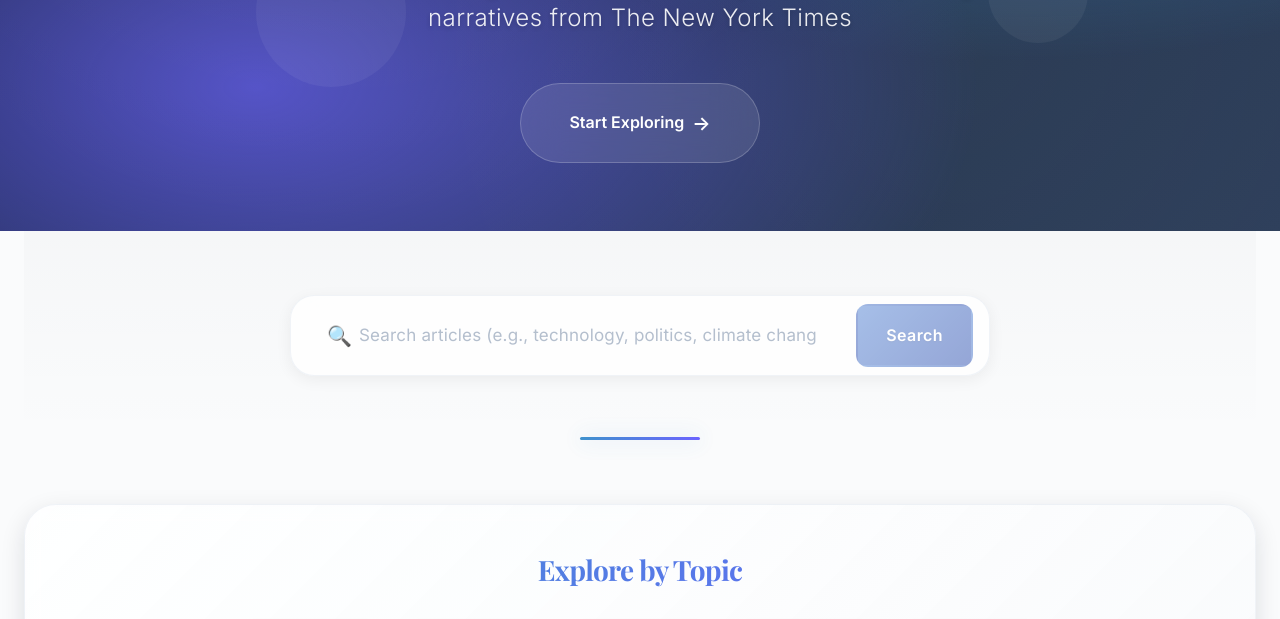
App › performs search and displays results
(page scrolled)
Type "test query" into the field with placeholder "Search articles" at (574, 336), box [307, 304, 840, 367]
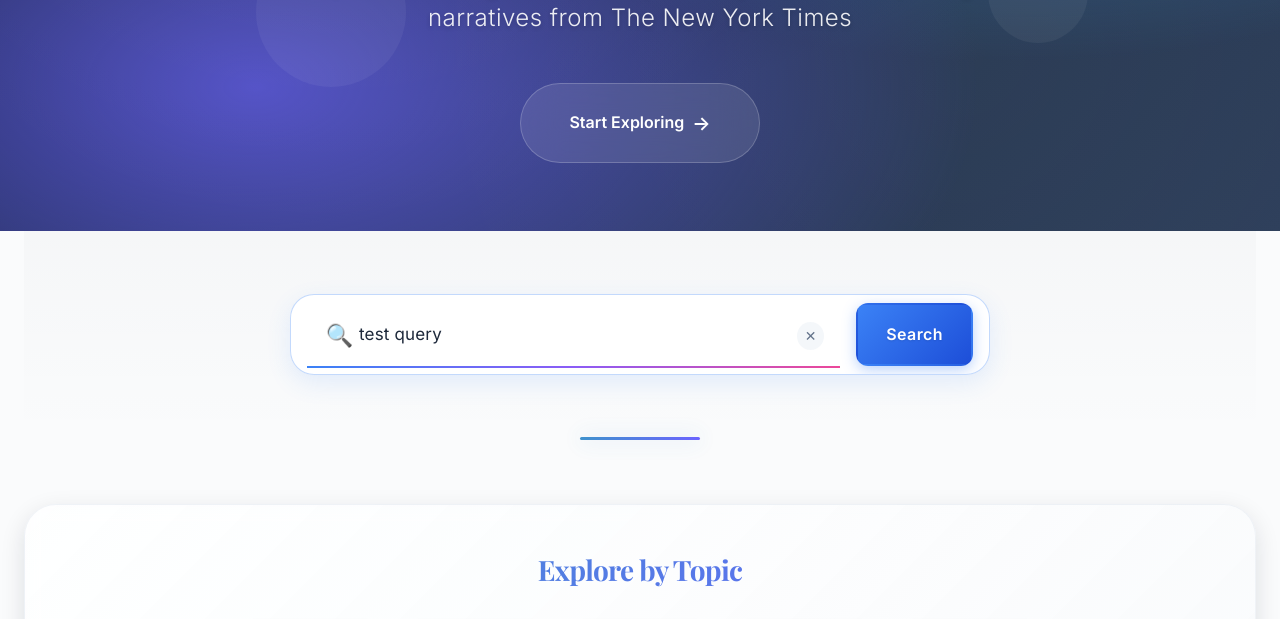
Click the button "Search" at (915, 335), box [856, 303, 973, 366]
(page scrolled)
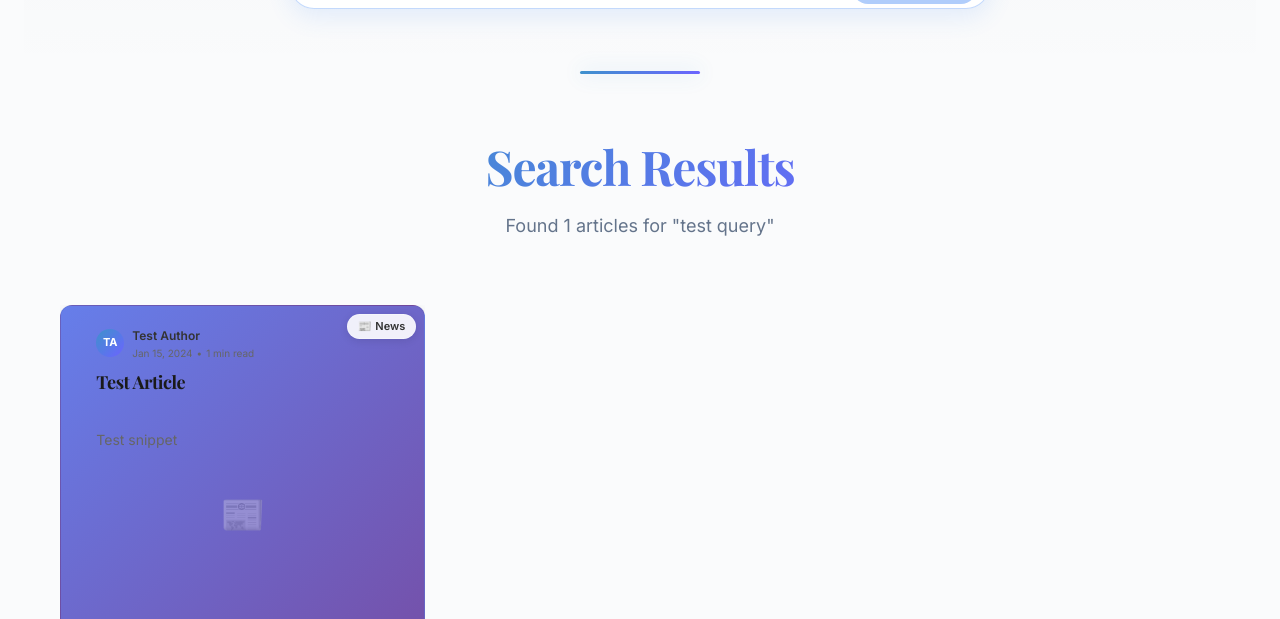
Now the heading "Test Article" is shown, box [96, 370, 185, 394]
Now the text "Test Author" is shown, box [132, 328, 200, 343]
